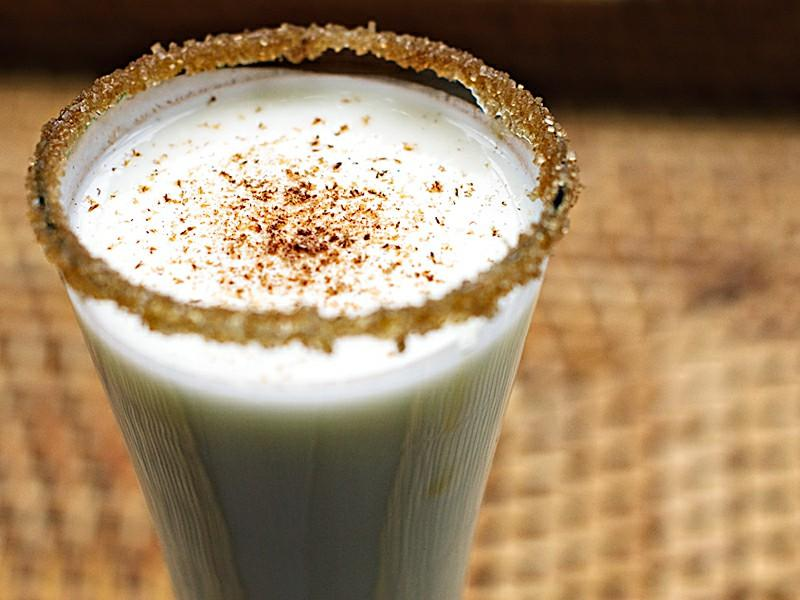Lassi: (69, 74, 541, 600)
